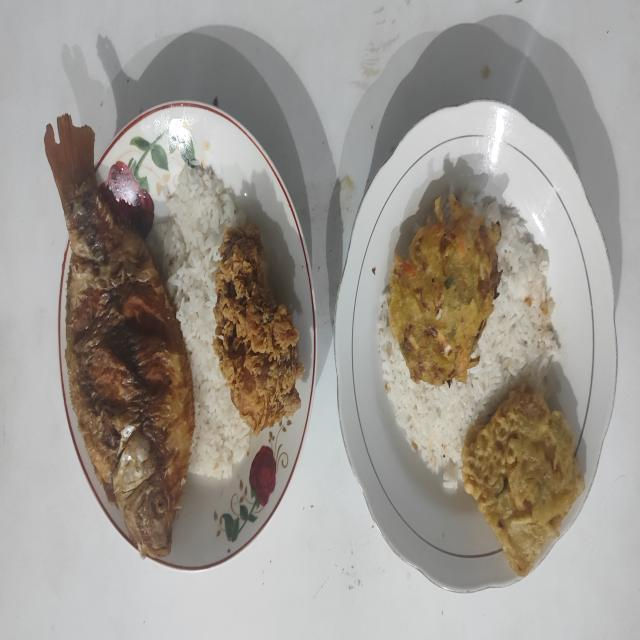ikan_mujair: (44, 116, 194, 558)
nasi_putih: (378, 202, 560, 488), (148, 166, 250, 478)
